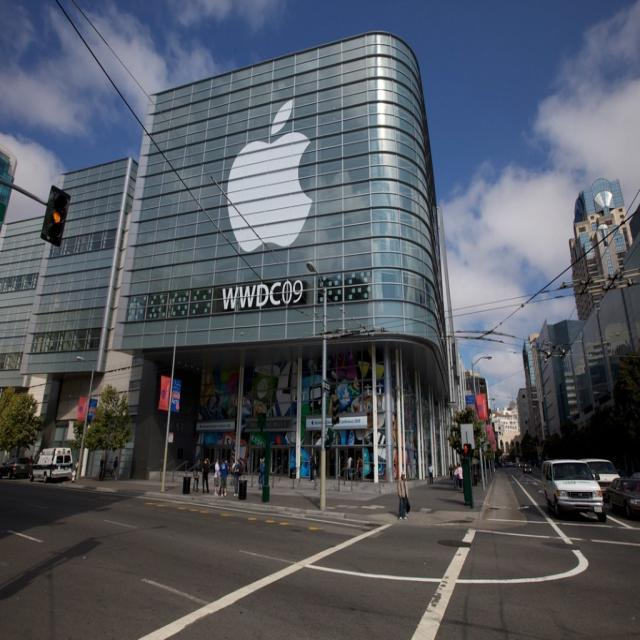car: (542, 458, 603, 518), (6, 458, 27, 478)
